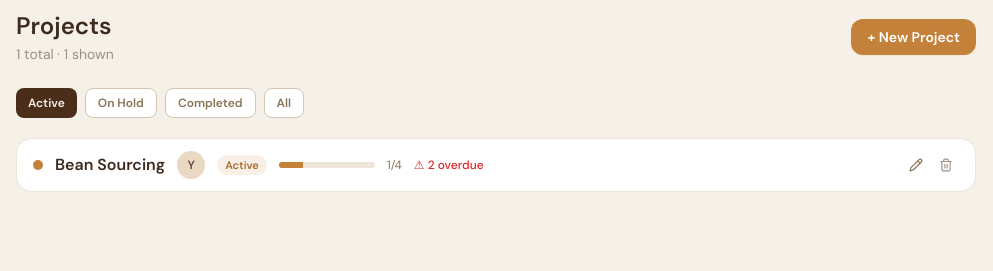
it: Projects 删除 › 被 RLS 静静挡掉的删除必须讲出来,不能装作成功
Click the button named "Delete Bean Sourcing".
click(946, 165)  # box [933,152,959,178]
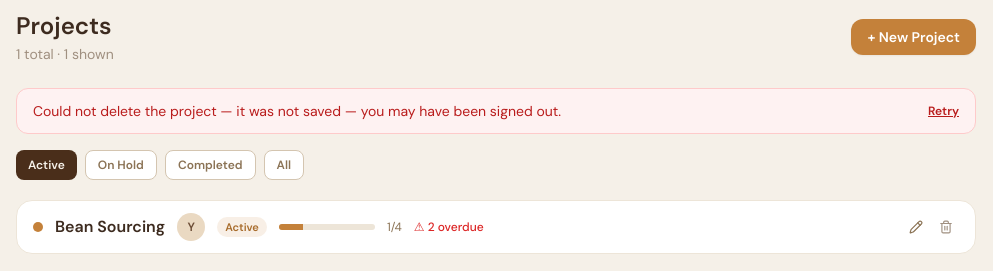
Check: the element with test id "projects-error" shows "Could not delete the project", box [33,102,561,120]
Check: the element with test id "projects-error" shows "you may have been signed out", box [33,102,561,120]
